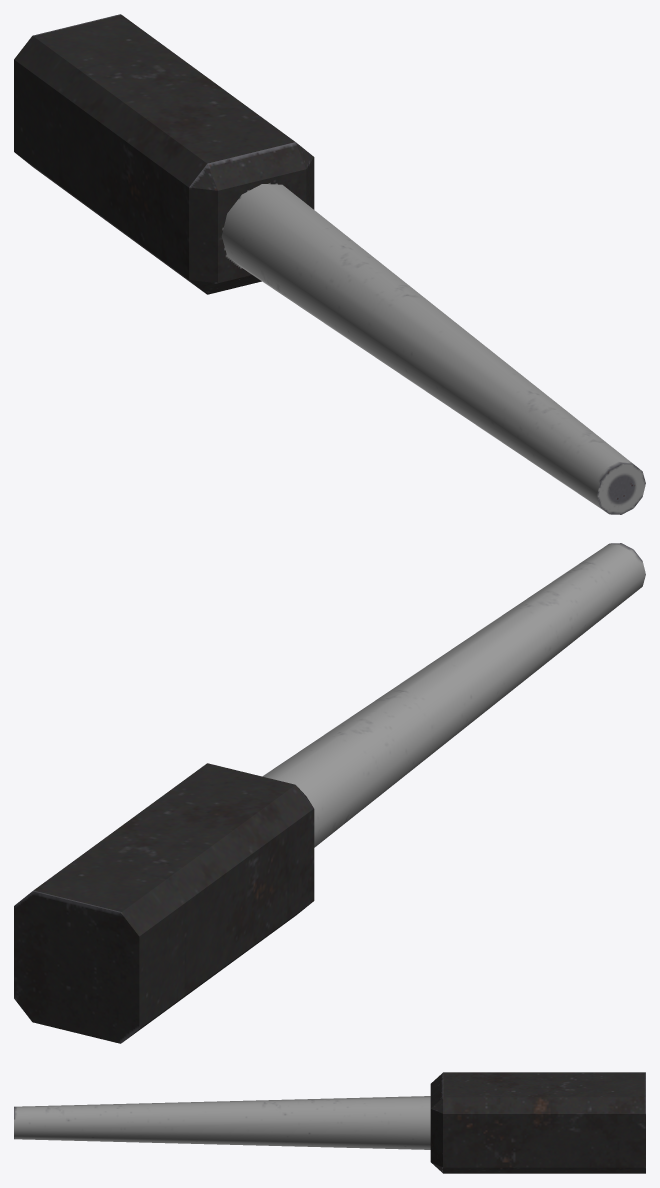
File: gun_s_2.fbx
3 views of the same model, one above another, from view 1: azimuth 30°, elevation 25°; view 2: azimuth 150°, elevation 25°; view 3: azimuth 270°, elevation 25° (orthographic). The views are drawn at different scales.
Visible parts, largest first — view 1: gun_s_2; view 2: gun_s_2; view 3: gun_s_2.
Boxes of the visible parts, left/top/right/bottom form: gun_s_2: left=14, top=14, right=645, bottom=514; gun_s_2: left=14, top=543, right=645, bottom=1043; gun_s_2: left=14, top=1072, right=645, bottom=1173.
Bounding box in the file's own units: 0.616 × 0.616 × 4.64.
